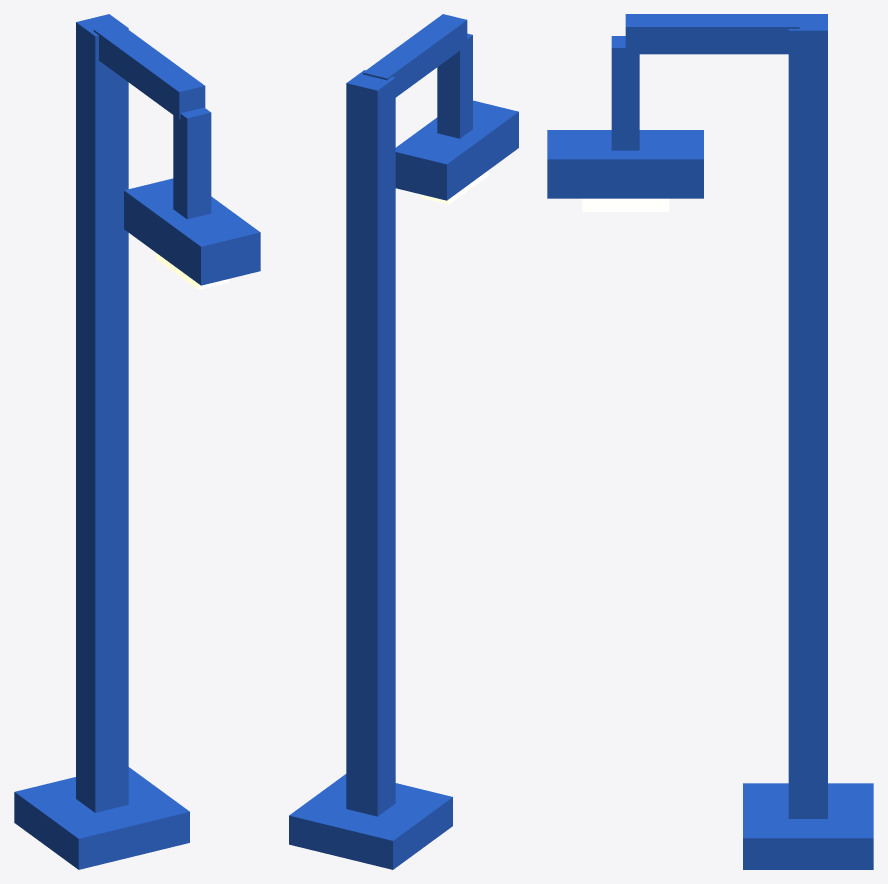
File: lamp.glb
3 renders of one model, left to right at view 1: azimuth 30°, elevation 25°; view 2: azimuth 150°, elevation 25°; view 3: azimuth 270°, elevation 25°, orthographic. The views are drawn at different scales.
Visible parts, largest first — view 1: LampN_-1.8_arm.001; view 2: LampN_-1.8_arm.001; view 3: LampN_-1.8_arm.001.
Boxes of the visible parts, bbox=[...] form: LampN_-1.8_arm.001: bbox=[14, 14, 260, 869]; LampN_-1.8_arm.001: bbox=[289, 14, 518, 869]; LampN_-1.8_arm.001: bbox=[547, 14, 873, 869].
Size of the model in its own units: 0.3 by 2.09 by 0.75.
